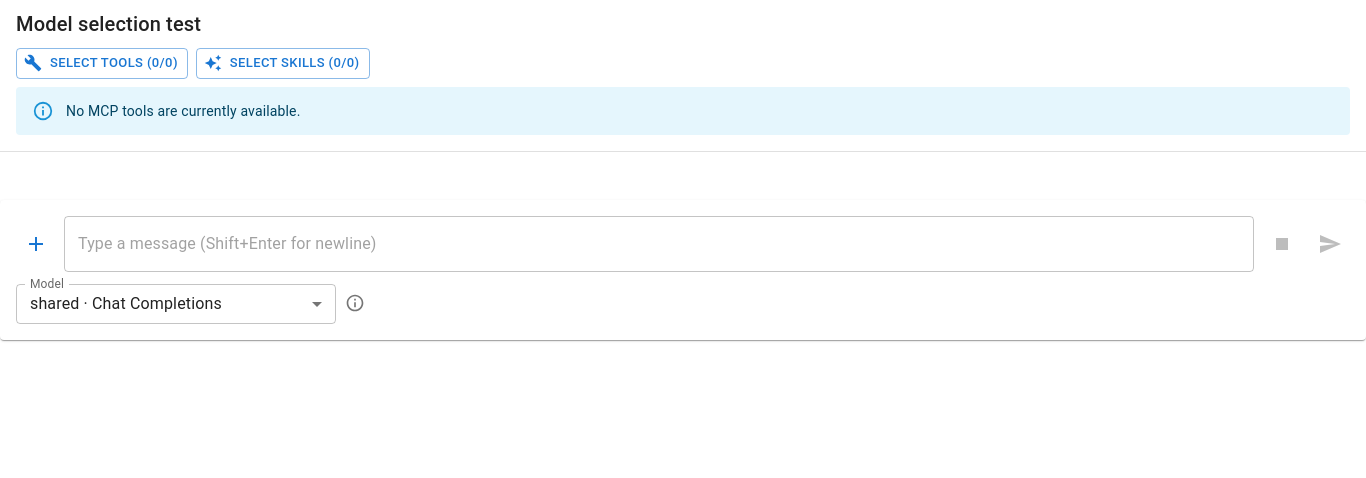
Test: shows the session model and distinguishes duplicate names by API
Expected: the dropdown named "Model" reads "shared · Chat Completions", [30,294,222,313]
Expected: the text "Switching models rebuilds agent state" is not shown
Hover over the button named "Model switching information" at (355, 303), box [340,288,370,318]
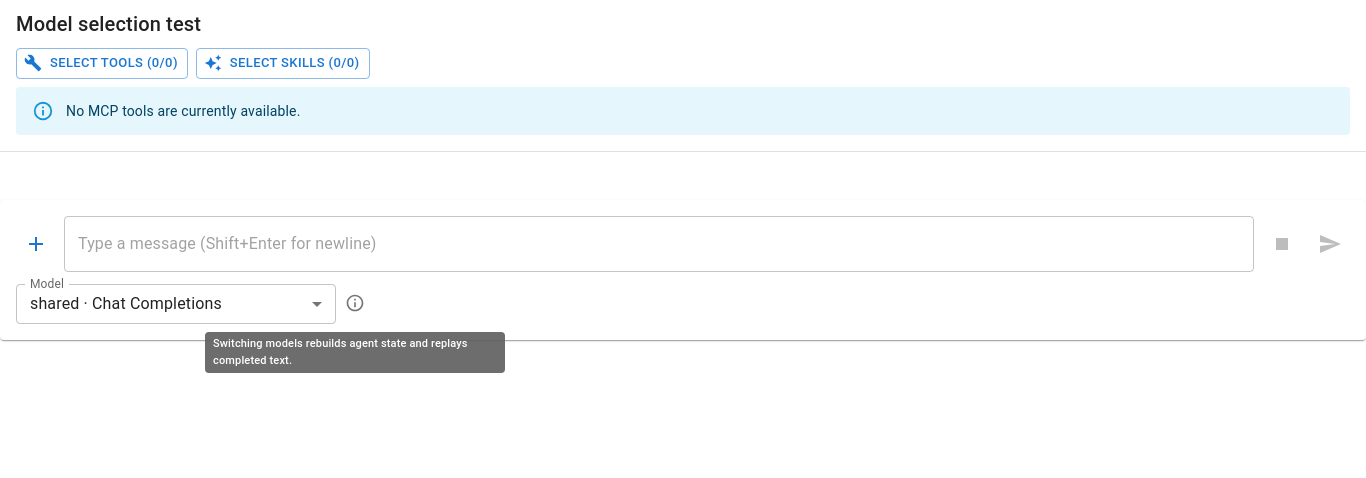
Expected: the text "Switching models rebuilds agent state" is shown, [213,337,468,366]
Press the mouse on the dropdown named "Model" at (126, 304), box [30,294,222,313]
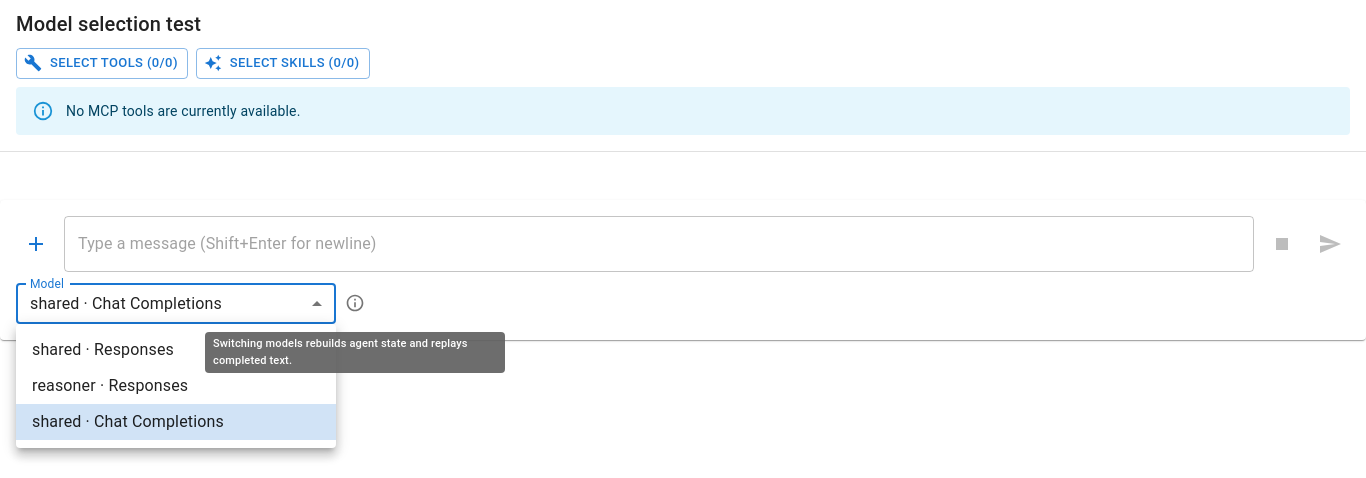
Expected: the option "shared · Responses" is shown, [32,340,174,359]
Expected: the option "shared · Chat Completions" is shown, [16,404,336,440]
